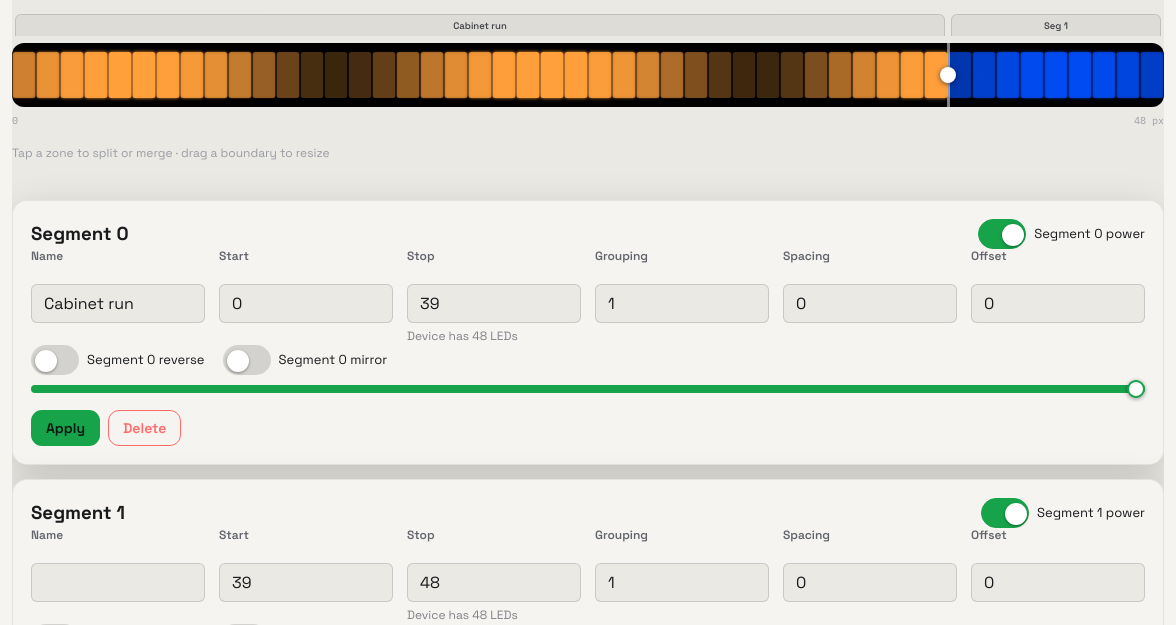
Test: SegmentsTab › validates bounds live and blocks Apply with an error
The width and height of the screenshot is (1176, 625).
Replace the text in the 1st number field labelled "Stop" with "49" at (494, 304), box x1=407 y1=284 x2=581 y2=323
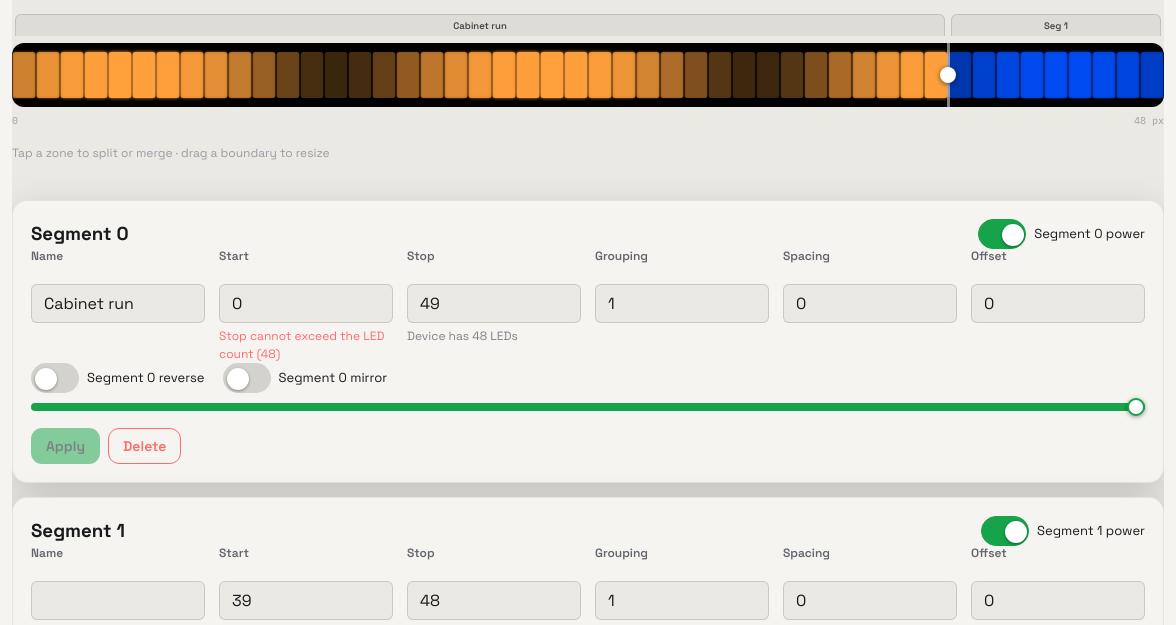
Check: the message shows "48", box x1=219 y1=328 x2=384 y2=362
Check: the button "Apply" below "Segment 0 reverse" is disabled, box x1=31 y1=428 x2=100 y2=464
